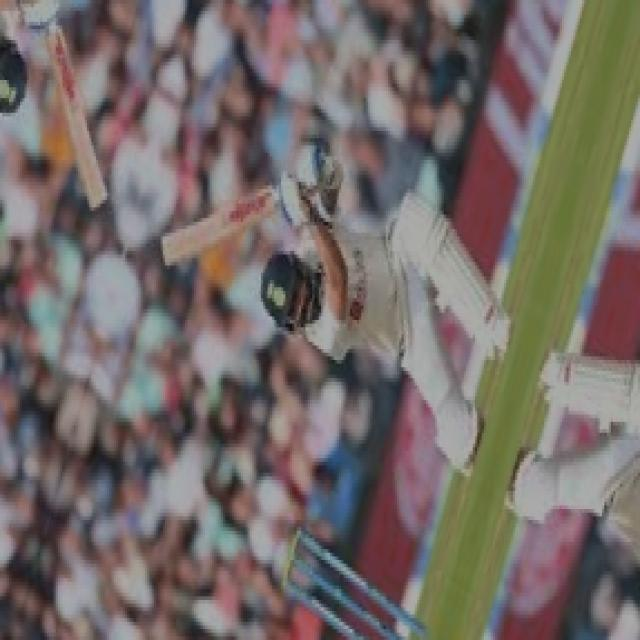bat: (147, 186, 286, 275)
toe: (151, 234, 172, 273)
